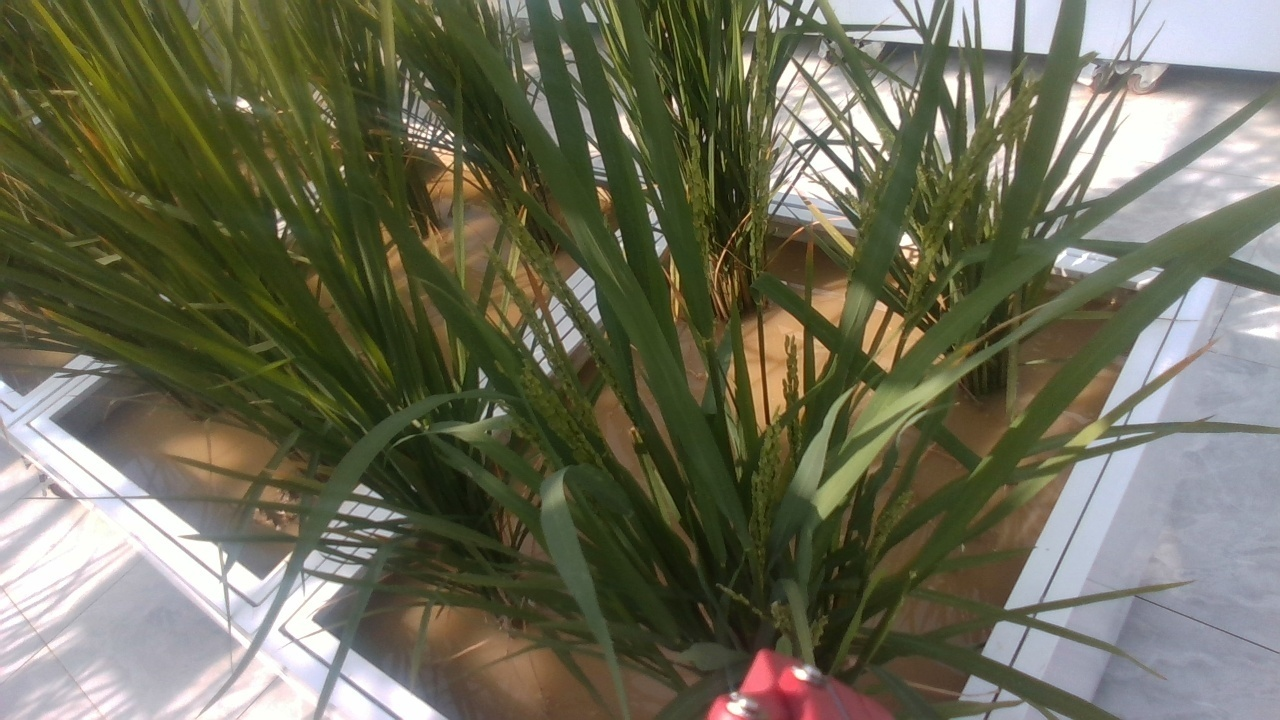panicle: (903, 59, 1080, 267), (493, 204, 594, 331), (744, 0, 783, 278), (512, 355, 586, 463), (677, 114, 720, 276), (749, 430, 780, 529), (777, 336, 806, 415)
